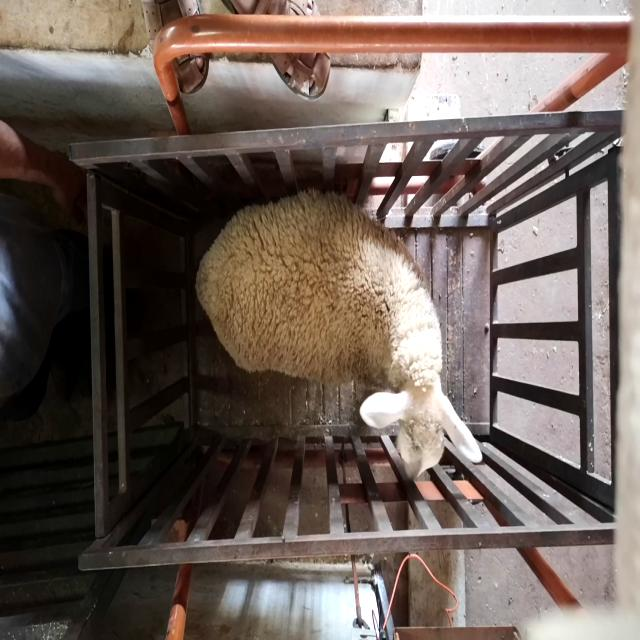sheep: (194, 189, 483, 482)
